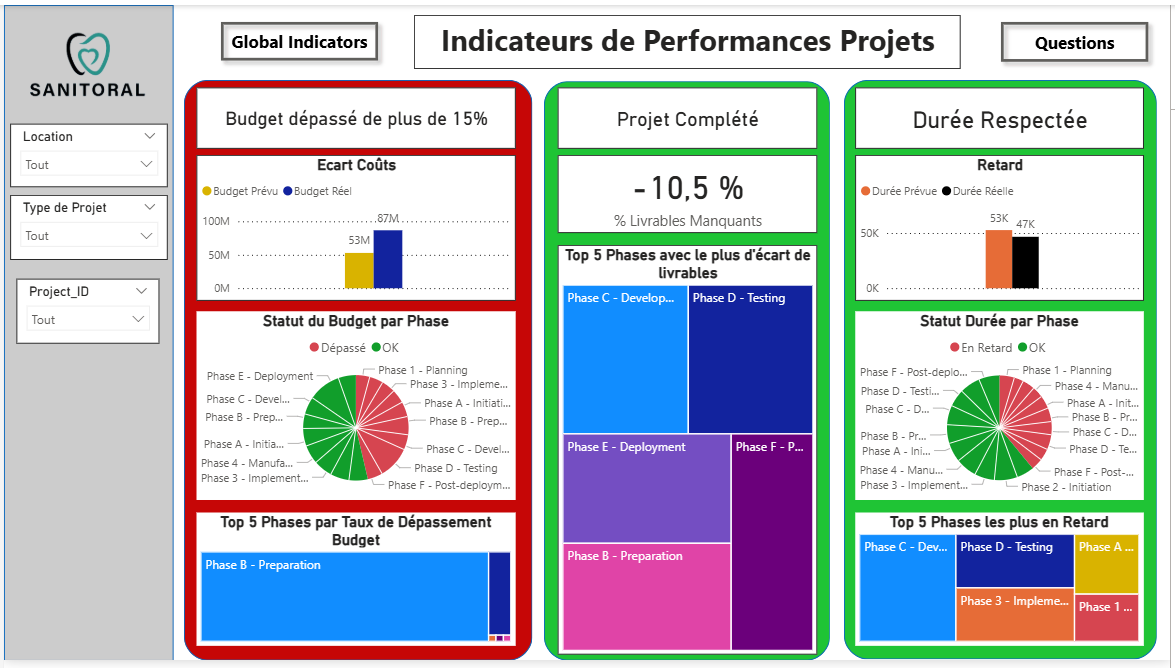

What the dashboard file says about the page in this screenshot:
{"tool":"powerbi","page":{"name":"Indicateurs Clés","canvas":[1280,720],"ordinal":1},"visuals":[{"type":"shape","box":[0,0,186.1,720],"z":3000},{"type":"slicer","fields":{"Values":["Country_Profiles.Region","Country_Profiles.Country"]},"box":[6.9,130.4,172.9,70],"z":4000},{"type":"image","box":[14,0,158.3,136.1],"z":6000},{"type":"slicer","fields":{"Values":["Project type.Project Type"]},"box":[6.9,208.6,172.9,71.4],"z":7000},{"type":"pieChart","title":"Statut Durée Projets","fields":{"Category":["PROJETS GLOBAL DUREE.Statut durée par phase"],"Y":["CountNonNull(PROJETS GLOBAL DUREE.ID_PROJET)"]},"box":[848.2,279.7,415.5,220],"z":12000},{"type":"tableEx","title":"Top 5 Projets avec budget dépassé","fields":{"Values":["PROJETS GLOBAL COUTS.ID_PROJET","PROJETS GLOBAL COUTS.Moyenne_Taux_Depassement"]},"box":[198.6,512.5,185.2,197.2],"z":14000},{"type":"treemap","title":"Top 5 Phases avec le plus d''écart de livrables","fields":{"Group":["Deliverables_status.Phase"],"Values":["Avg(Deliverables_status.Var_Deliverables)"]},"box":[611.8,186.5,209.3,314],"z":15000},{"type":"tableEx","title":"Top 5 Projets aux livrables manquants","fields":{"Values":["Deliverables_status.Project_ID","Avg(Deliverables_status.Var_Deliverables)"]},"box":[611.8,512.5,209.3,197.2],"z":16000},{"type":"actionButton","box":[221.4,6.7,185.2,60.4],"z":21000},{"type":"donutChart","title":"Statut Budget Projets","fields":{"Y":["Count(PROJETS GLOBAL COUTS.ID_PROJET)"],"Category":["PROJETS GLOBAL COUTS.Statut coûts par projet"]},"box":[198.6,280.4,385.1,220],"z":22000},{"type":"clusteredColumnChart","title":"Ecart Coûts","fields":{"Y":["Actual_Costs.Budget Prévu","Actual_Costs.Budget Réel"]},"box":[198.6,92.6,385.1,173.1],"z":23000},{"type":"clusteredColumnChart","title":"Retard","fields":{"Y":["Sum(Actual_Duration.Planned_Duration)","Sum(Actual_Duration.Actual_Duration)"]},"box":[848,92.6,415.9,173.1],"z":24000},{"type":"card","title":"Ecart Livrables","fields":{"Values":["Avg(Deliverables_status.Var_Deliverables)"]},"box":[611.8,92.6,209.3,87.2],"z":25000},{"type":"tableEx","title":"Top 5 Projets en Retard","fields":{"Values":["Actual_Duration.Project_ID","Actual_Duration.Ecart Planned actual"]},"box":[1066.7,512.5,197.2,197.2],"z":26000},{"type":"card","fields":{"Values":["Count(Deliverables_status.Project_ID)"]},"box":[6.9,307.4,172.9,402.1],"z":27000},{"type":"actionButton","box":[1085.5,9.4,179.8,61.7],"z":30000},{"type":"treemap","title":"Top 3 Phases avec Dépassement Budget","fields":{"Group":["Actual_Costs.Phase"],"Values":["Avg(Actual_Costs.Taux de dépassement coûts)"]},"box":[391,512,193.2,197.8],"z":33000},{"type":"treemap","title":"Top 3 Phases les plus en retard","fields":{"Group":["Actual_Duration.Phase"],"Values":["Avg(Actual_Duration.Taux de dépassement durée)"]},"box":[848.3,512,207.1,197.8],"z":34000},{"type":"textbox","box":[449.5,12.1,599.7,59],"z":38000}]}

Visuals, with their boxes in screenshot pixels (x1, y1, x2, y2), scaled from the page's 1280x720 canvas onto the 1175x668 screenshot:
shape: bbox=(0, 0, 171, 667)
slicer - Country_Profiles.Region x Country_Profiles.Country: bbox=(6, 121, 165, 186)
image: bbox=(13, 0, 158, 126)
slicer - Project type.Project Type: bbox=(6, 194, 165, 260)
"Statut Durée Projets" pieChart: bbox=(779, 259, 1160, 464)
"Top 5 Projets avec budget dépassé" tableEx: bbox=(182, 475, 352, 658)
"Top 5 Phases avec le plus d''écart de livrables" treemap: bbox=(562, 173, 754, 464)
"Top 5 Projets aux livrables manquants" tableEx: bbox=(562, 475, 754, 658)
actionButton: bbox=(203, 6, 373, 62)
"Statut Budget Projets" donutChart: bbox=(182, 260, 536, 464)
"Ecart Coûts" clusteredColumnChart: bbox=(182, 86, 536, 247)
"Retard" clusteredColumnChart: bbox=(778, 86, 1160, 247)
"Ecart Livrables" card: bbox=(562, 86, 754, 167)
"Top 5 Projets en Retard" tableEx: bbox=(979, 475, 1160, 658)
card - Count(Deliverables_status.Project_ID): bbox=(6, 285, 165, 658)
actionButton: bbox=(996, 9, 1162, 66)
"Top 3 Phases avec Dépassement Budget" treemap: bbox=(359, 475, 536, 659)
"Top 3 Phases les plus en retard" treemap: bbox=(779, 475, 969, 659)
textbox: bbox=(413, 11, 963, 66)
